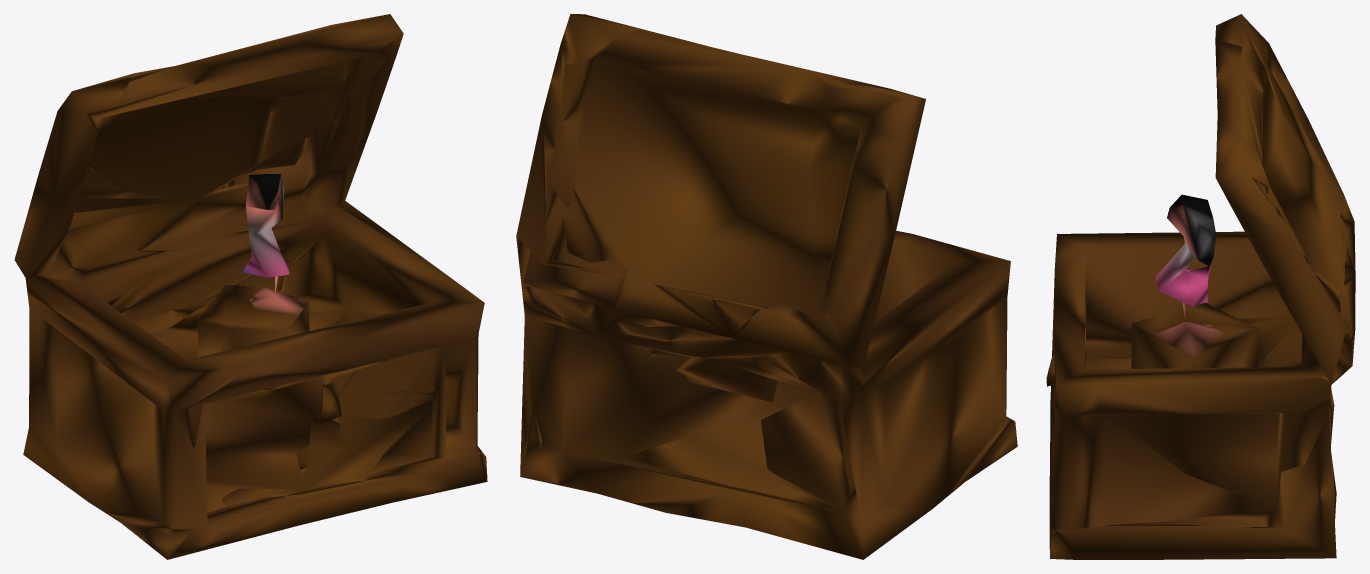
Rendered from gen3d-music-box-lod1.glb.
3 renders of one model, left to right at view 1: azimuth 30°, elevation 25°; view 2: azimuth 150°, elevation 25°; view 3: azimuth 270°, elevation 25°, orthographic. The views are drawn at different scales.
Parts seen in each view (by area): view 1: part_0; view 2: part_0; view 3: part_0.
Part boxes in pixels (x1,y1,x2,y2): part_0: [14, 14, 487, 559]; part_0: [516, 14, 1017, 559]; part_0: [1046, 14, 1355, 559].
Bounding box in the file's own units: 0.8459 × 0.9995 × 0.7133.
